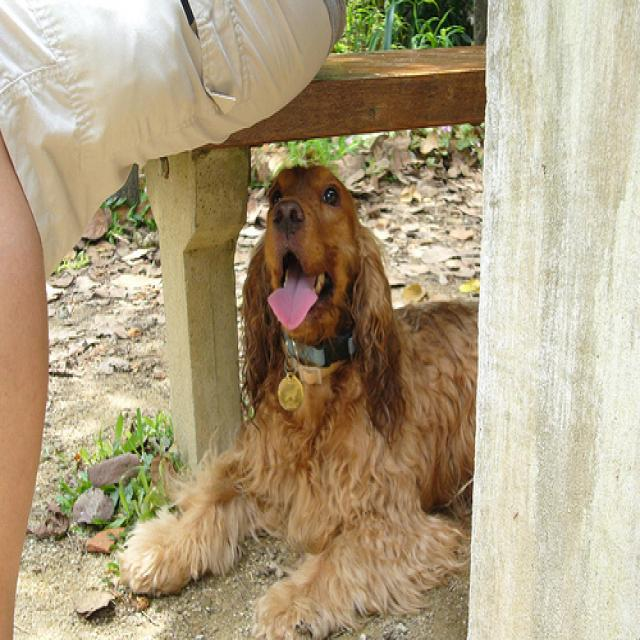dog-english_cocker_spaniel: (113, 147, 488, 637)
